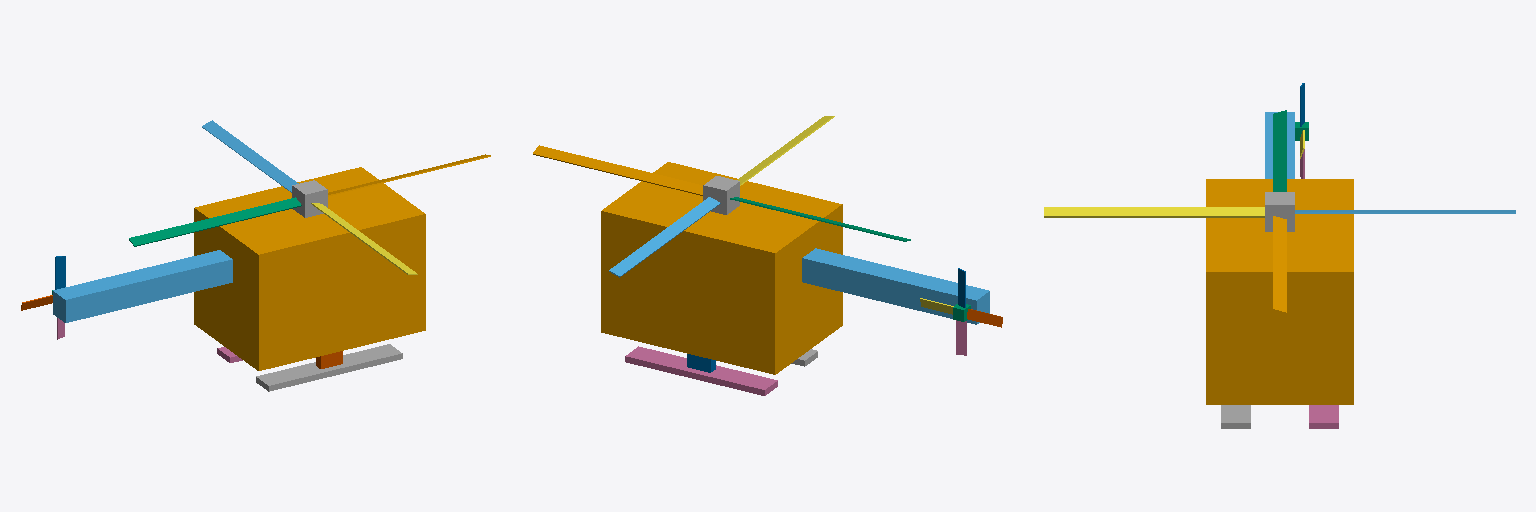
The robot description file, URDF, robot "sample3":
<?xml version="1.0"?>
<robot name="sample3">

  <link name="base_link">
    <visual>
      <geometry>
        <box size="1.5 1 1"/>
      </geometry>
    </visual>
  </link>

  <joint name="base_to_tail" type="fixed">
    <parent link="base_link"/>
    <child link="tail"/>
    <origin xyz="-0.75 0 0.2"/>
  </joint>

  <link name="tail">
    <visual>
      <geometry>
        <box size="1.5 0.2 0.2"/>
      </geometry>
      <origin xyz="-0.75 0 0"/>
    </visual>
  </link>

  <joint name="tail_to_tail_wing" type="continuous">
    <parent link="tail"/>
    <child link="tail_wing"/>
    <origin xyz="-1.4 0.1 0"/>
    <axis xyz="0 1 0"/>
  </joint>

  <link name="tail_wing">
    <visual>
      <geometry>
        <box size="0.1 0.1 0.1"/>
      </geometry>
      <origin xyz="0 0.05 0"/>
    </visual>
  </link>

  <joint name="tail_wing_to_tail_wing1" type="fixed">
    <parent link="tail_wing"/>
    <child link="tail_wing1"/>
    <origin rpy="-0.3 0 0" xyz="0.05 0.05 0"/>
  </joint>

  <link name="tail_wing1">
    <visual>
      <geometry>
        <box size="0.3 0.01 0.08"/>
      </geometry>
      <origin xyz="0.15 0 0"/>
    </visual>
  </link>

  <joint name="tail_wing_to_tail_wing2" type="fixed">
    <parent link="tail_wing"/>
    <child link="tail_wing2"/>
    <origin rpy="0 0 -0.3" xyz="0 0.05 0.05"/>
  </joint>

  <link name="tail_wing2">
    <visual>
      <geometry>
        <box size="0.08 0.01 0.3"/>
      </geometry>
      <origin xyz="0 0 0.15"/>
    </visual>
  </link>

  <joint name="tail_wing_to_tail_wing3" type="fixed">
    <parent link="tail_wing"/>
    <child link="tail_wing3"/>
    <origin rpy="0.3 0 0" xyz="-0.05 0.05 0"/>
  </joint>

  <link name="tail_wing3">
    <visual>
      <geometry>
        <box size="0.3 0.01 0.08"/>
      </geometry>
      <origin xyz="-0.15 0 0"/>
    </visual>
  </link>

  <joint name="tail_wing_to_tail_wing4" type="fixed">
    <parent link="tail_wing"/>
    <child link="tail_wing4"/>
    <origin rpy="0 0 0.3" xyz="0 0.05 -0.05"/>
  </joint>

  <link name="tail_wing4">
    <visual>
      <geometry>
        <box size="0.08 0.01 0.3"/>
      </geometry>
      <origin xyz="0 0 -0.15"/>
    </visual>
  </link>

  <joint name="base_to_wing" type="continuous">
    <parent link="base_link"/>
    <child link="wing"/>
    <origin xyz="0 0 0.5"/>
    <axis xyz="0 0 1"/>
  </joint>

  <link name="wing">
    <visual>
      <geometry>
        <box size="0.2 0.2 0.2"/>
      </geometry>
      <origin xyz="0 0 0.1"/>
    </visual>
  </link>

  <joint name="wing_to_wing1" type="fixed">
    <parent link="wing"/>
    <child link="wing1"/>
    <origin rpy="-0.3 0 0" xyz="0.1 0 0.1"/>
  </joint>

  <link name="wing1">
    <visual>
      <geometry>
        <box size="1.5 0.1 0.01"/>
      </geometry>
      <origin xyz="0.75 0 0"/>
    </visual>
  </link>

  <joint name="wing_to_wing2" type="fixed">
    <parent link="wing"/>
    <child link="wing2"/>
    <origin rpy="0 -0.3 0" xyz="0 0.1 0.1"/>
  </joint>

  <link name="wing2">
    <visual>
      <geometry>
        <box size="0.1 1.5 0.01"/>
      </geometry>
      <origin xyz="0 0.75 0"/>
    </visual>
  </link>

  <joint name="wing_to_wing3" type="fixed">
    <parent link="wing"/>
    <child link="wing3"/>
    <origin rpy="0.3 0 0" xyz="-0.1 0 0.1"/>
  </joint>

  <link name="wing3">
    <visual>
      <geometry>
        <box size="1.5 0.1 0.01"/>
      </geometry>
      <origin xyz="-0.75 0 0"/>
    </visual>
  </link>

  <joint name="wing_to_wing4" type="fixed">
    <parent link="wing"/>
    <child link="wing4"/>
    <origin rpy="0 0.3 0" xyz="0 -0.1 0.1"/>
  </joint>

  <link name="wing4">
    <visual>
      <geometry>
        <box size="0.1 1.5 0.01"/>
      </geometry>
      <origin xyz="0 -0.75 0"/>
    </visual>
  </link>

  <joint name="base_to_lleg" type="fixed">
    <parent link="base_link"/>
    <child link="left_leg"/>
    <origin xyz="0 0.3 -0.5"/>
  </joint>

  <link name="left_leg">
    <visual>
      <geometry>
        <box size="0.2 0.08 0.2"/>
      </geometry>
      <origin xyz="0 0 -0.1"/>
    </visual>
  </link>

  <joint name="base_to_rleg" type="fixed">
    <parent link="base_link"/>
    <child link="right_leg"/>
    <origin xyz="0 -0.3 -0.5"/>
  </joint>

  <link name="right_leg">
    <visual>
      <geometry>
        <box size="0.2 0.08 0.2"/>
      </geometry>
      <origin xyz="0 0 -0.1"/>
    </visual>
  </link>

  <joint name="lleg_to_ltiptoe" type="fixed">
    <parent link="left_leg"/>
    <child link="left_tiptoe"/>
    <origin xyz="0 0 -0.2"/>
  </joint>

  <link name="left_tiptoe">
    <visual>
      <geometry>
        <box size="1.2 0.2 0.05"/>
      </geometry>
      <origin xyz="0 0 -0.025"/>
    </visual>
  </link>

  <joint name="rleg_to_rtiptoe" type="fixed">
    <parent link="right_leg"/>
    <child link="right_tiptoe"/>
    <origin xyz="0 0 -0.2"/>
  </joint>

  <link name="right_tiptoe">
    <visual>
      <geometry>
        <box size="1.2 0.2 0.05"/>
      </geometry>
      <origin xyz="0 0 -0.025"/>
    </visual>
  </link>

</robot>

--- Facts derived from the render (not from the file) ---
Views: 3 orthographic renders of the robot side by side, from view 1: azimuth 30°, elevation 25°; view 2: azimuth 150°, elevation 25°; view 3: azimuth 270°, elevation 25°.
Model sample3 with 16 links and 15 joints (2 continuous, 13 fixed), rooted at base_link, posed all joints at 0.
Links seen in each view (by area): view 1: base_link, tail, right_tiptoe, wing3, wing2, wing, wing4, wing1; view 2: base_link, tail, left_tiptoe, wing1, wing2, wing, wing4, wing3; view 3: base_link, wing4, wing1, wing3, tail, wing, wing2, left_tiptoe, right_tiptoe.
Boxes of the visible links, x1,y1,x2,y2 form: base_link: (194, 167, 425, 370); tail: (53, 250, 232, 322); right_tiptoe: (256, 344, 402, 391); wing3: (129, 197, 301, 246); wing2: (202, 120, 298, 192); wing: (292, 180, 327, 217); wing4: (311, 203, 417, 274); wing1: (328, 154, 490, 196); base_link: (601, 162, 842, 374); tail: (802, 248, 989, 324); left_tiptoe: (625, 346, 777, 395); wing1: (533, 145, 702, 195); wing2: (609, 197, 720, 277); wing: (703, 176, 739, 214); wing4: (738, 116, 834, 185); wing3: (730, 197, 910, 241); base_link: (1206, 179, 1353, 404); wing4: (1044, 207, 1264, 217); wing1: (1273, 216, 1286, 313); wing3: (1273, 110, 1286, 191); tail: (1265, 112, 1294, 178); wing: (1265, 192, 1294, 231); wing2: (1295, 210, 1515, 213); left_tiptoe: (1309, 405, 1338, 428); right_tiptoe: (1221, 405, 1250, 428).
Bounding box of the posed robot: 4.1 × 3.2 × 1.45 m (x, y, z).
Geometry: primitives only (box / cylinder / sphere), no mesh files.